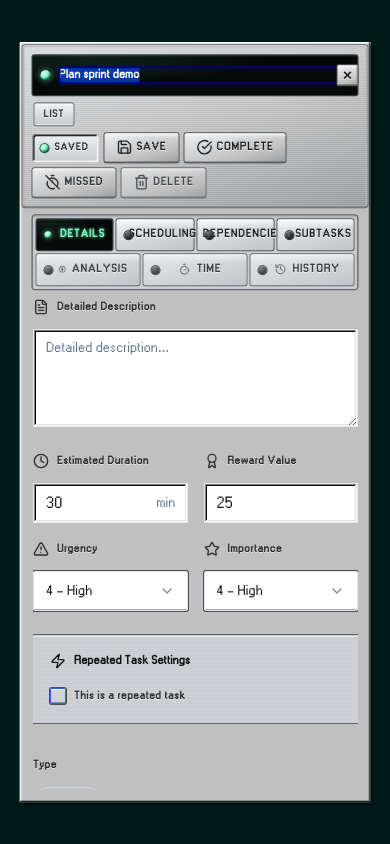
Test case: TaskDetailPopup › shows Save after editing description and persists to store
Expected: the message reads "Saved", [54, 142, 88, 152]
Replace the text in the field showing "Plan sprint demo" with "Plan team demo" at (201, 75), box [58, 66, 344, 84]
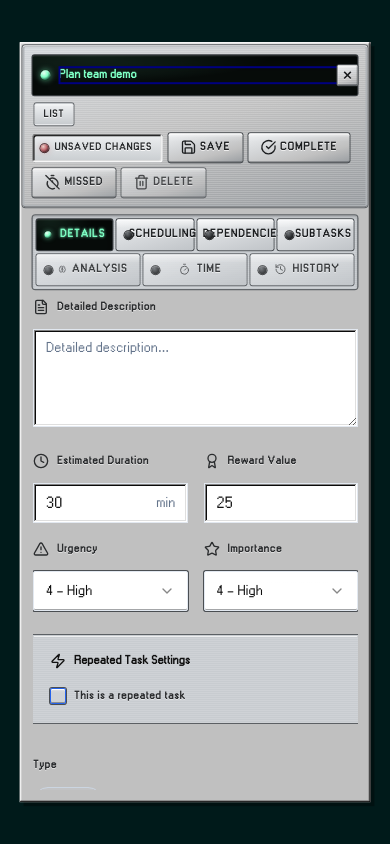
Result: the message reads "Unsaved changes" at [54, 142, 152, 152]
Click the button "Save" at (205, 148), box [168, 133, 242, 162]
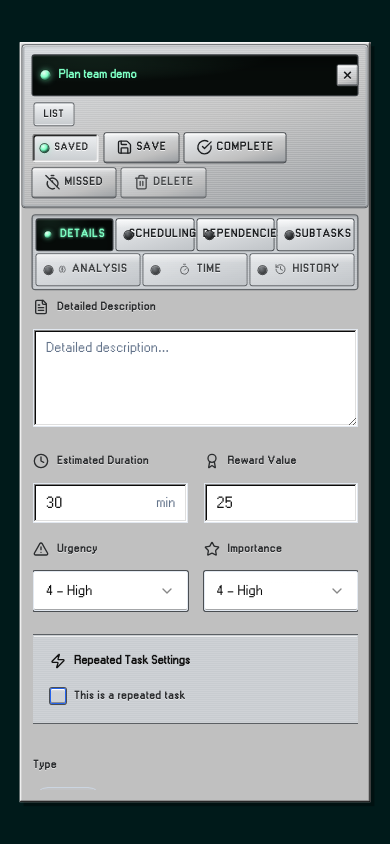
Result: the message reads "Saved" at [54, 142, 88, 152]
Click the tab "History" at (302, 270), box [250, 254, 354, 285]
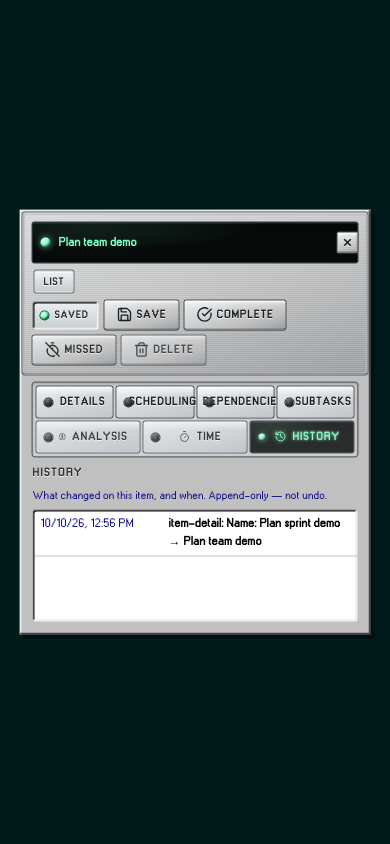
Result: the text "item-detail: Name: Plan sprint demo → Plan team demo" is shown at [168, 514, 350, 550]
